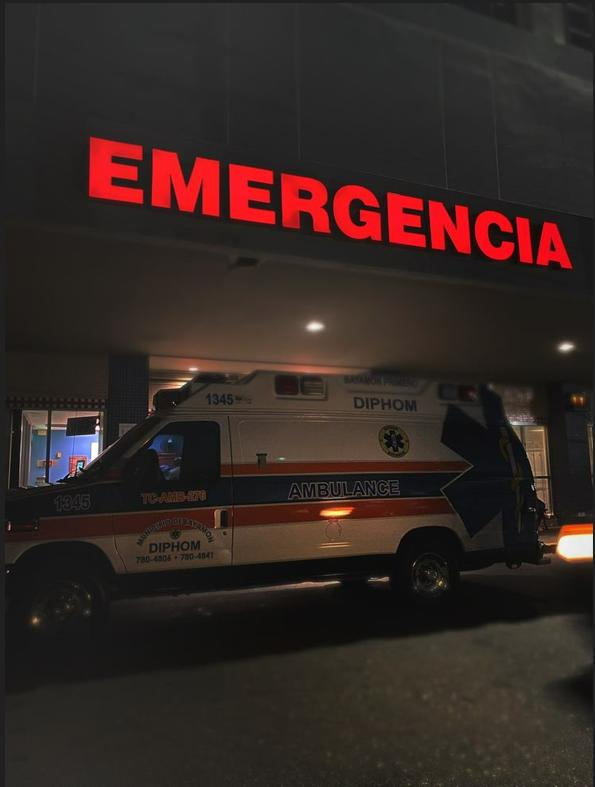ambulance_off: (2, 370, 549, 657)
